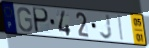2: (76, 12, 90, 39)
4: (58, 10, 72, 38)
G: (16, 7, 34, 33)
I: (118, 15, 125, 43)
J: (98, 14, 114, 41)
P: (33, 7, 50, 35)
